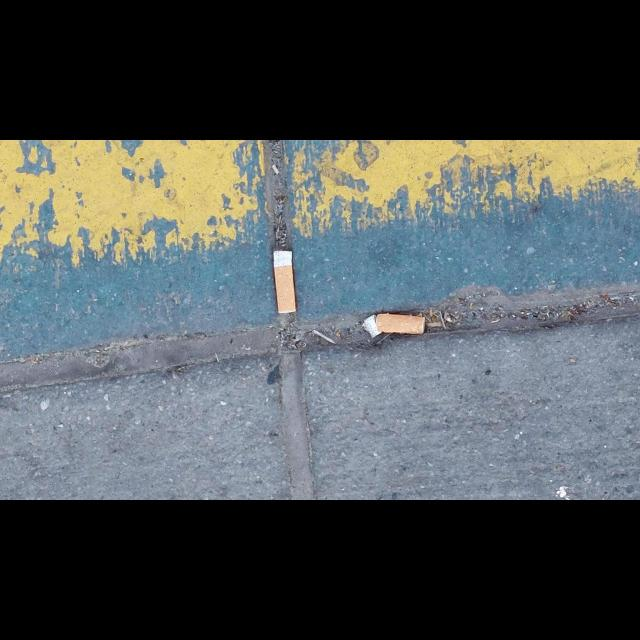cigarette: (362, 313, 426, 338), (272, 250, 296, 314)
